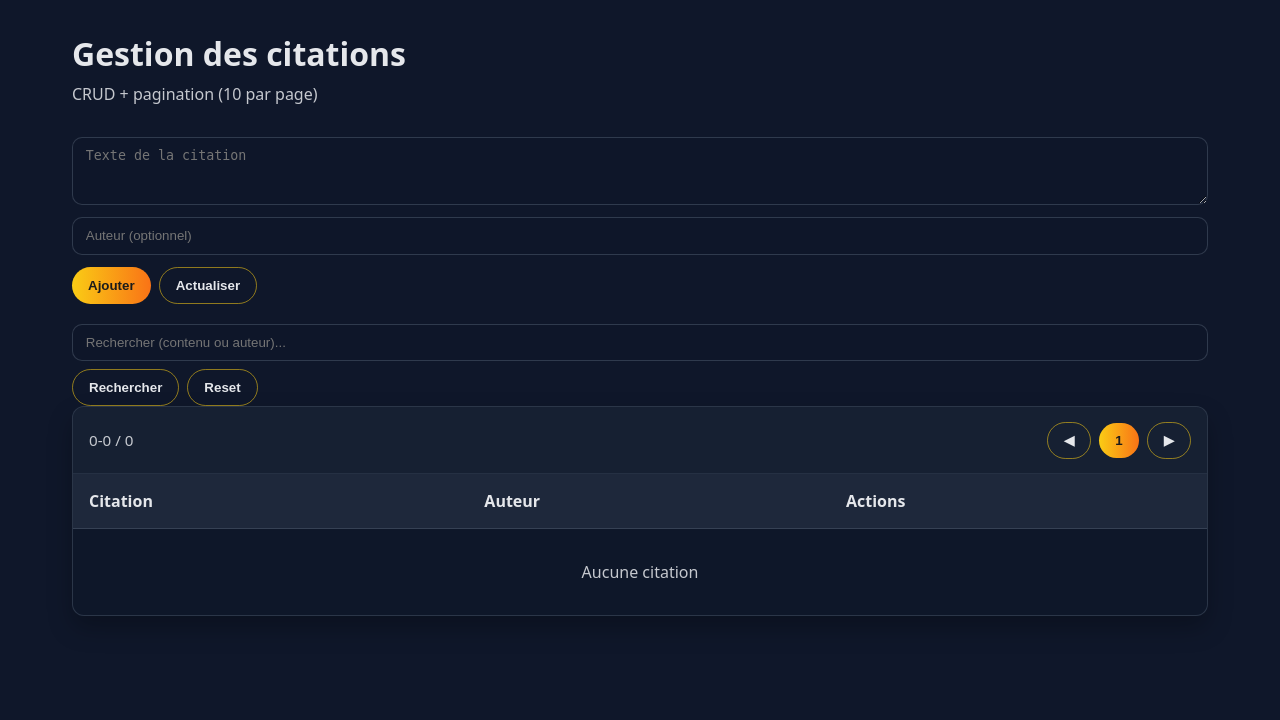
Test: QuotesPanel › creates a quote and reloads page one
In the text box with placeholder "Texte de la citation": point(640, 171) [72, 137, 1208, 205], type "Hello"
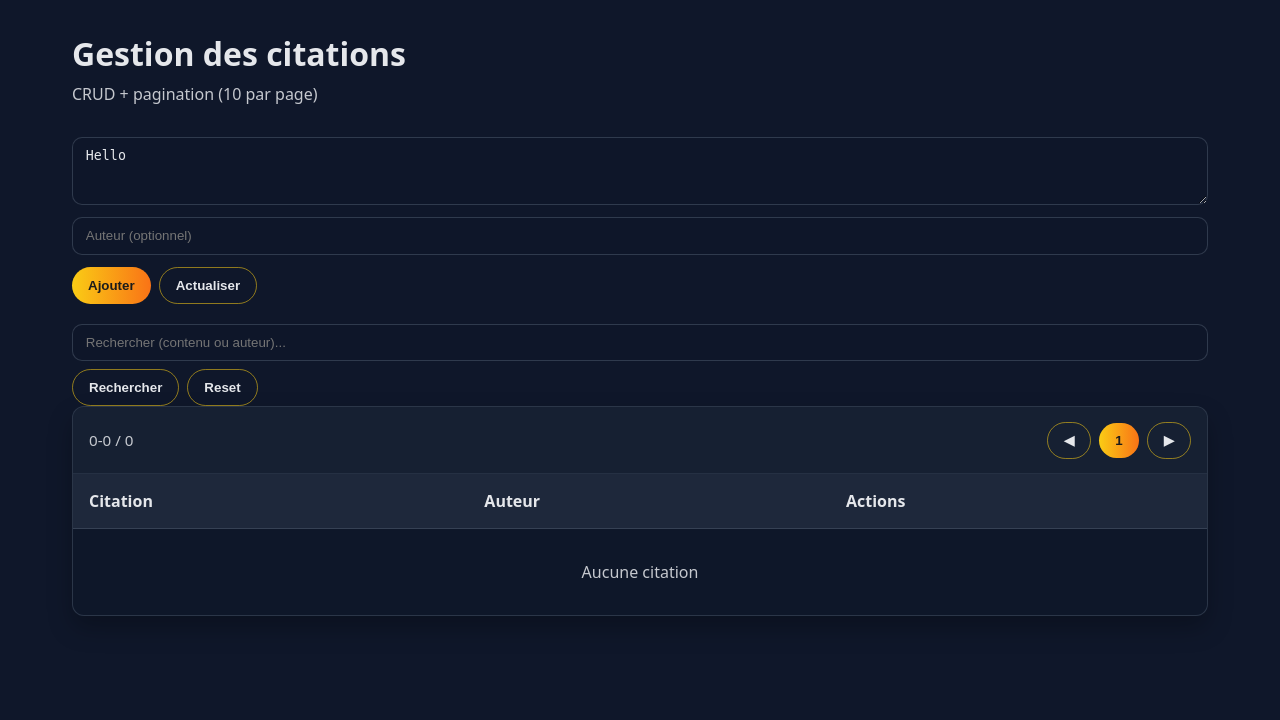
In the field with placeholder "Auteur (optionnel)": point(640, 236) [72, 217, 1208, 255], type "Morpheus"
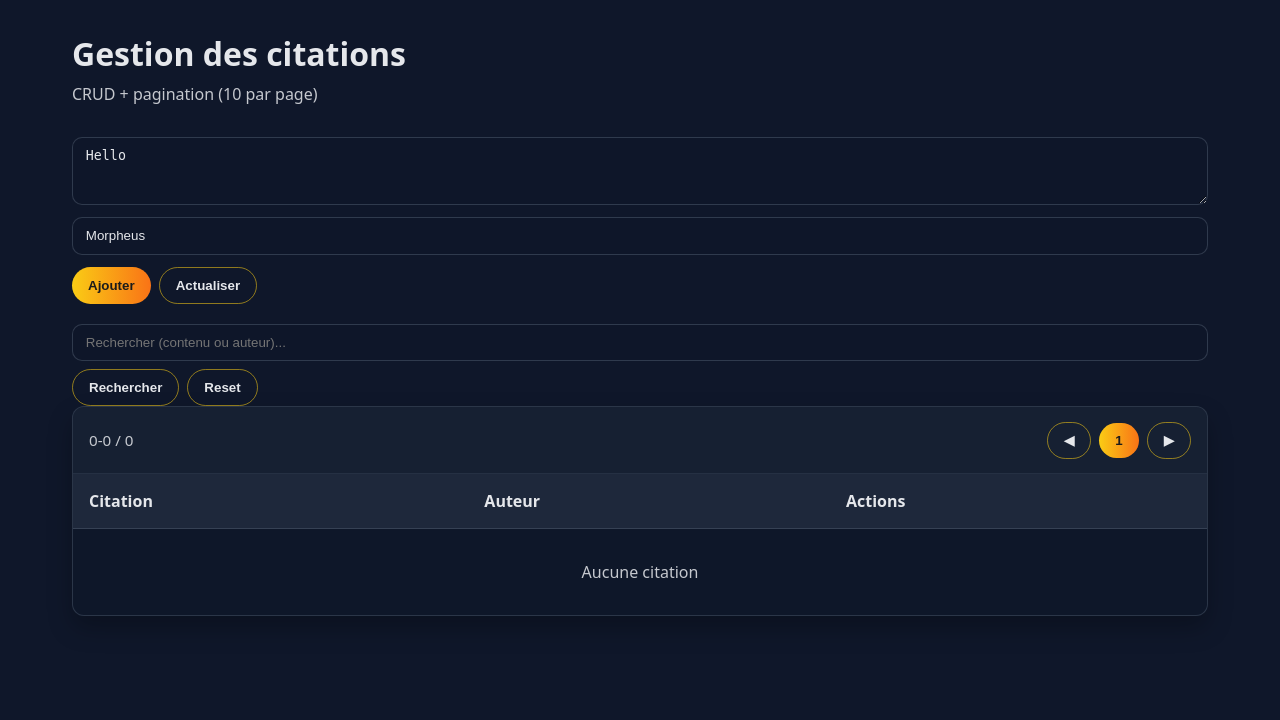
Click the button "Ajouter": point(111, 285) [72, 267, 151, 304]
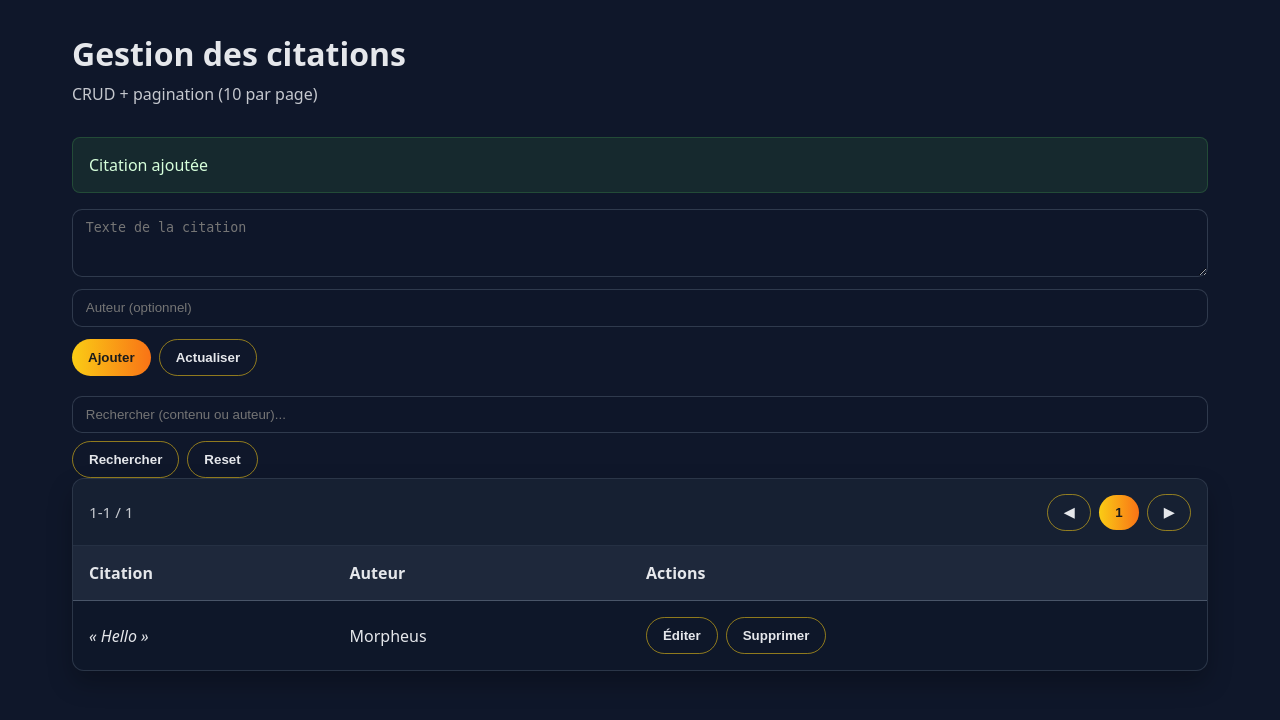
Check: the text "Citation ajoutée" is shown, box [72, 137, 1208, 193]
